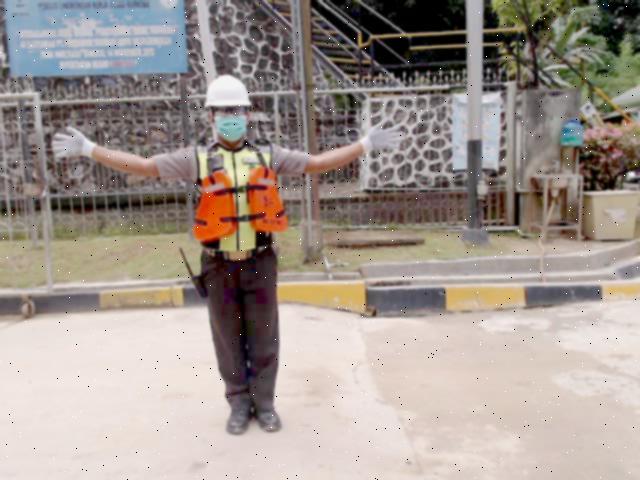glasses: (215, 106, 247, 116)
gloves: (49, 123, 99, 165), (358, 118, 407, 156)
helmet: (204, 74, 251, 106)
mask: (215, 117, 246, 142)
safety-shoes: (223, 399, 254, 436), (253, 404, 285, 434)
vest: (191, 165, 291, 242)
